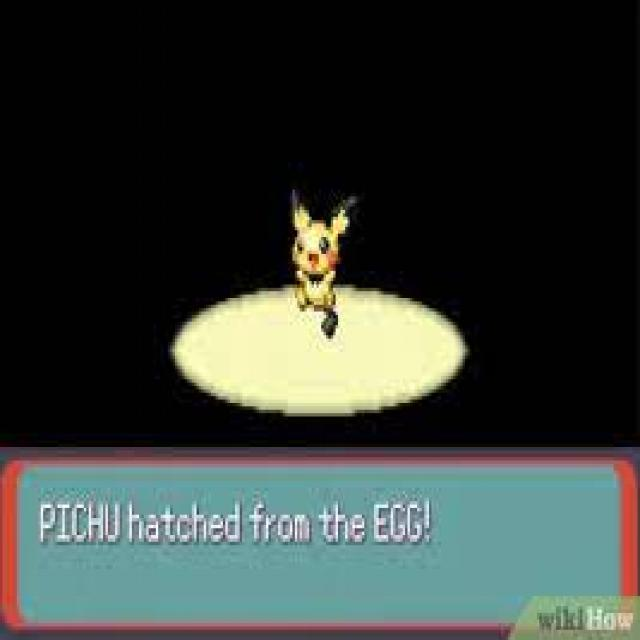pichu: (262, 157, 380, 367)
